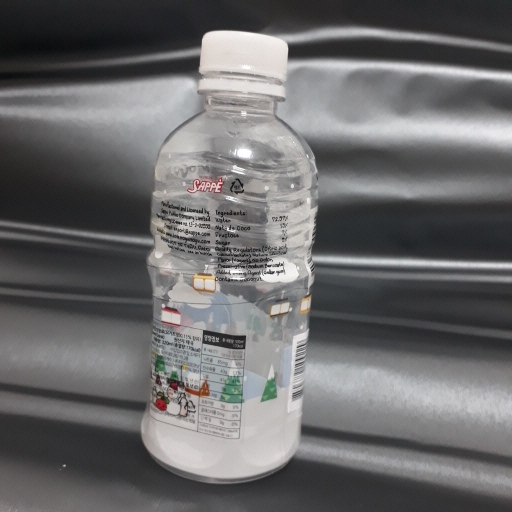Plastic_0: (144, 30, 317, 486)
